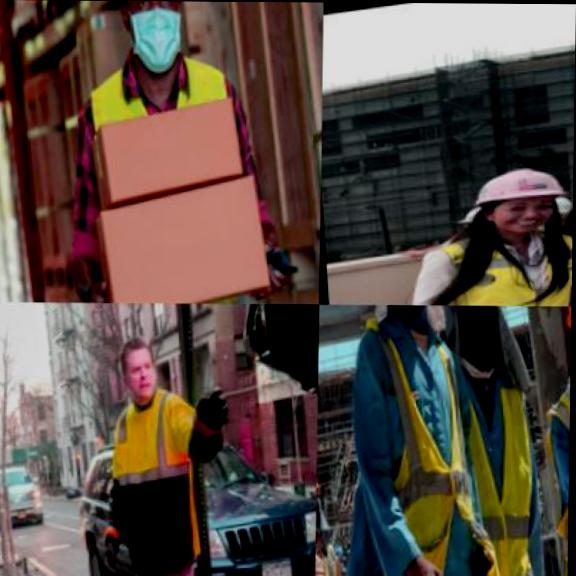safety_vest: (73, 42, 256, 303), (341, 305, 479, 576), (450, 348, 551, 576), (100, 394, 201, 576), (418, 212, 573, 305), (533, 376, 570, 576)
